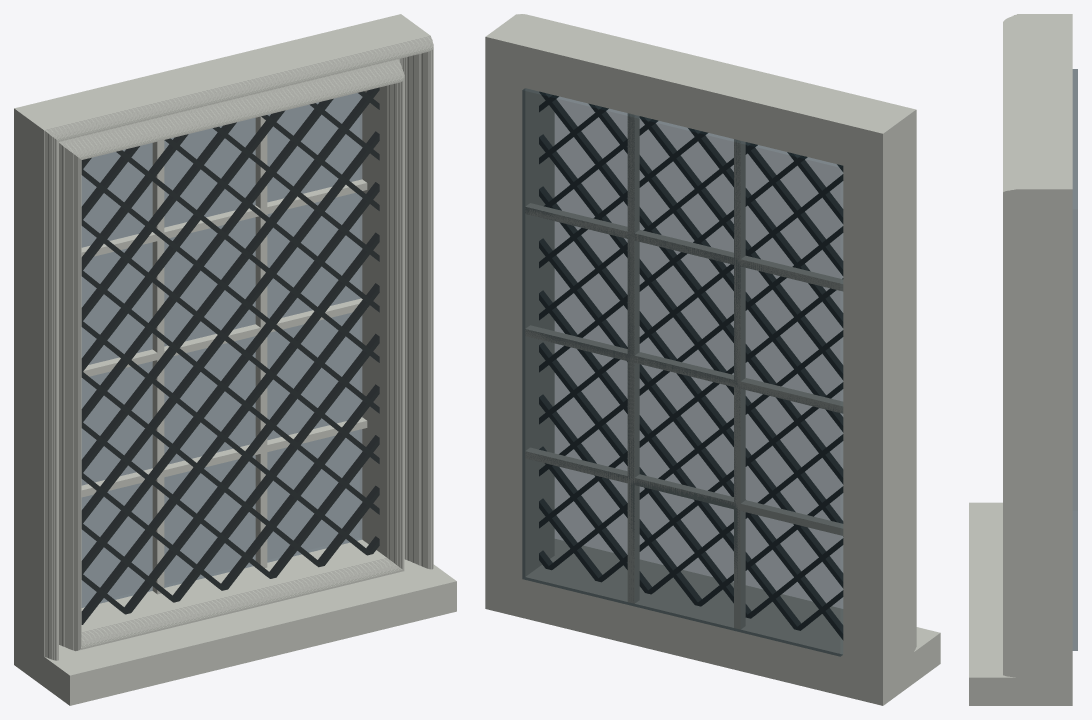
Rendered from barroco_rectangle_con_reja.glb.
3 views of the same model, side by side, from view 1: azimuth 30°, elevation 25°; view 2: azimuth 150°, elevation 25°; view 3: azimuth 270°, elevation 25° (orthographic). The views are drawn at different scales.
Parts seen in each view (by area): view 1: window_glass#0001, window_grille#0001, window_sill#0001, window_reveal#0001, window_profile#0096, window_mullion#0001, window_profile#0001, window_profile#0015, window_profile#0083, window_profile#0081, window_profile#0095, window_profile#0094 (+69 smaller); view 2: window_glass#0001, window_reveal#0001, window_grille#0001, window_mullion#0001, window_profile#0096, window_profile#0001, window_sill#0001, window_profile#0093, window_profile#0095, window_profile#0094, window_profile#0092, window_profile#0090 (+1 smaller); view 3: window_profile#0096, window_reveal#0001, window_sill#0001, window_glass#0001, window_profile#0095, window_profile#0094, window_profile#0093, window_profile#0092, window_profile#0090, window_profile#0091, window_profile#0089, window_profile#0088 (+6 smaller).
Boxes of the visible parts, x1=… form: window_glass#0001: x1=81, y1=93, x2=362, y2=607; window_grille#0001: x1=81, y1=87, x2=379, y2=624; window_sill#0001: x1=22, y1=559, x2=456, y2=705; window_reveal#0001: x1=14, y1=14, x2=411, y2=674; window_profile#0096: x1=25, y1=22, x2=430, y2=686; window_mullion#0001: x1=81, y1=116, x2=367, y2=594; window_profile#0001: x1=81, y1=85, x2=387, y2=632; window_profile#0015: x1=81, y1=81, x2=402, y2=647; window_profile#0083: x1=56, y1=48, x2=433, y2=660; window_profile#0081: x1=57, y1=49, x2=432, y2=660; window_profile#0095: x1=44, y1=36, x2=431, y2=656; window_profile#0094: x1=45, y1=37, x2=431, y2=657; window_glass#0001: x1=522, y1=88, x2=843, y2=656; window_reveal#0001: x1=485, y1=27, x2=896, y2=705; window_grille#0001: x1=539, y1=92, x2=842, y2=639; window_mullion#0001: x1=525, y1=113, x2=843, y2=629; window_profile#0096: x1=499, y1=14, x2=913, y2=696; window_profile#0001: x1=537, y1=91, x2=842, y2=641; window_sill#0001: x1=555, y1=539, x2=940, y2=699; window_profile#0093: x1=520, y1=14, x2=915, y2=649; window_profile#0095: x1=517, y1=14, x2=914, y2=651; window_profile#0094: x1=519, y1=14, x2=914, y2=650; window_profile#0092: x1=521, y1=14, x2=915, y2=648; window_profile#0090: x1=523, y1=14, x2=915, y2=647; window_profile#0096: x1=1017, y1=14, x2=1051, y2=705; window_reveal#0001: x1=1049, y1=14, x2=1072, y2=705; window_sill#0001: x1=969, y1=502, x2=1057, y2=705; window_glass#0001: x1=1072, y1=69, x2=1077, y2=650; window_profile#0095: x1=1015, y1=14, x2=1016, y2=677; window_profile#0094: x1=1014, y1=15, x2=1015, y2=677; window_profile#0093: x1=1012, y1=15, x2=1013, y2=677; window_profile#0092: x1=1011, y1=16, x2=1012, y2=676; window_profile#0090: x1=1008, y1=17, x2=1009, y2=676; window_profile#0091: x1=1010, y1=17, x2=1011, y2=676; window_profile#0089: x1=1007, y1=18, x2=1008, y2=676; window_profile#0088: x1=1006, y1=18, x2=1007, y2=676.
Size of the model in its own units: 1.6 by 2.2 by 0.42.
